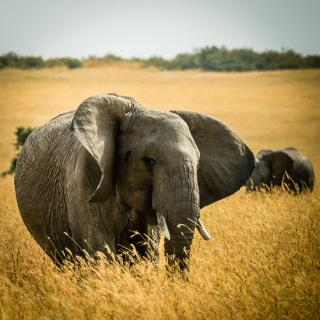Elephant: (14, 91, 261, 280)
